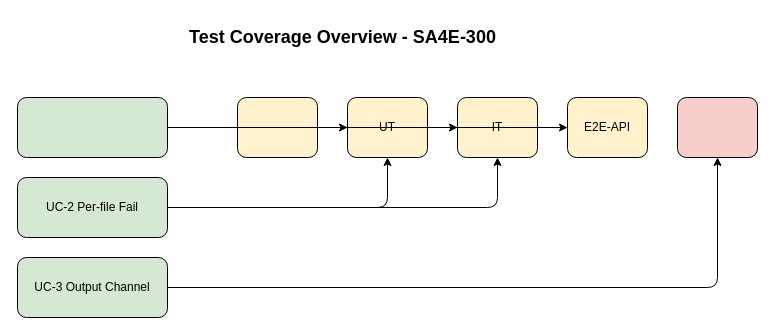
The diagram is 775 pixels wide and 335 high, and some of its shapes have lost their labels. Here are the shapes that lost their labels. From the top down, the centre of each, then its label:
the point at 92,127: UC-1 Error Detail
the point at 277,127: PBT
the point at 717,127: SIT
